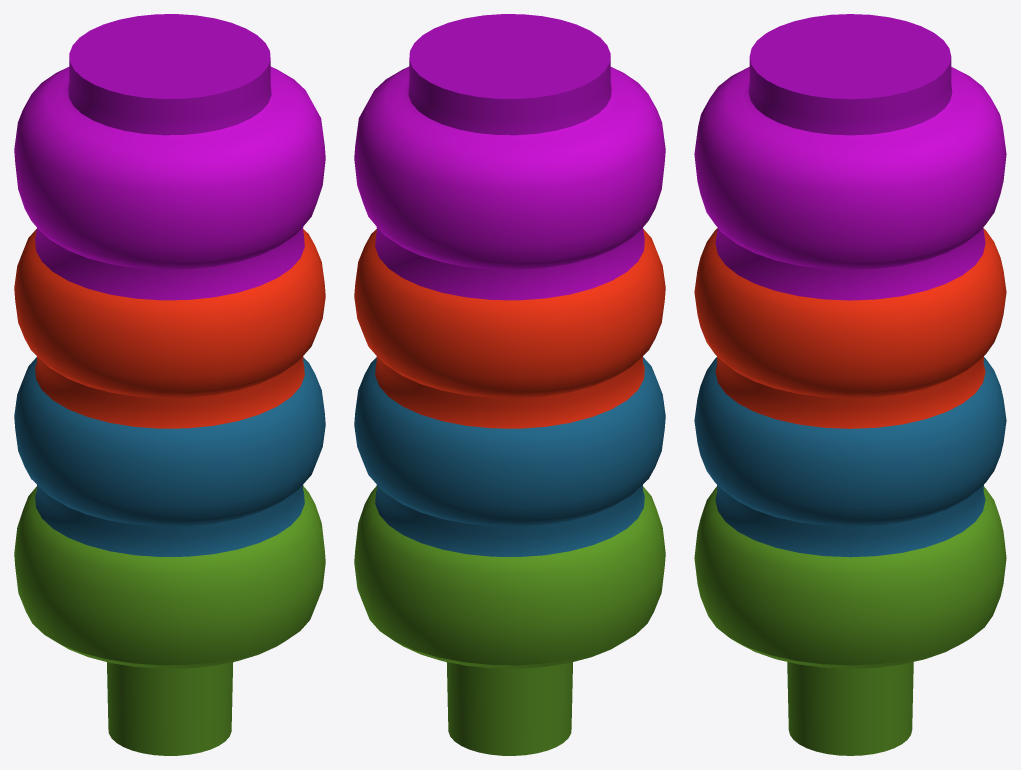
The model's file is Barrier .fbx.
3 views of the same model, side by side, from view 1: azimuth 30°, elevation 25°; view 2: azimuth 150°, elevation 25°; view 3: azimuth 270°, elevation 25° (orthographic).
Visible parts, largest first — view 1: Barrier__1_; view 2: Barrier__1_; view 3: Barrier__1_.
Boxes of the visible parts, left/top/right/bottom form: Barrier__1_: left=14, top=14, right=325, bottom=755; Barrier__1_: left=354, top=14, right=665, bottom=755; Barrier__1_: left=694, top=14, right=1006, bottom=755.
Size of the model in its own units: 89.21 by 212 by 89.21.
